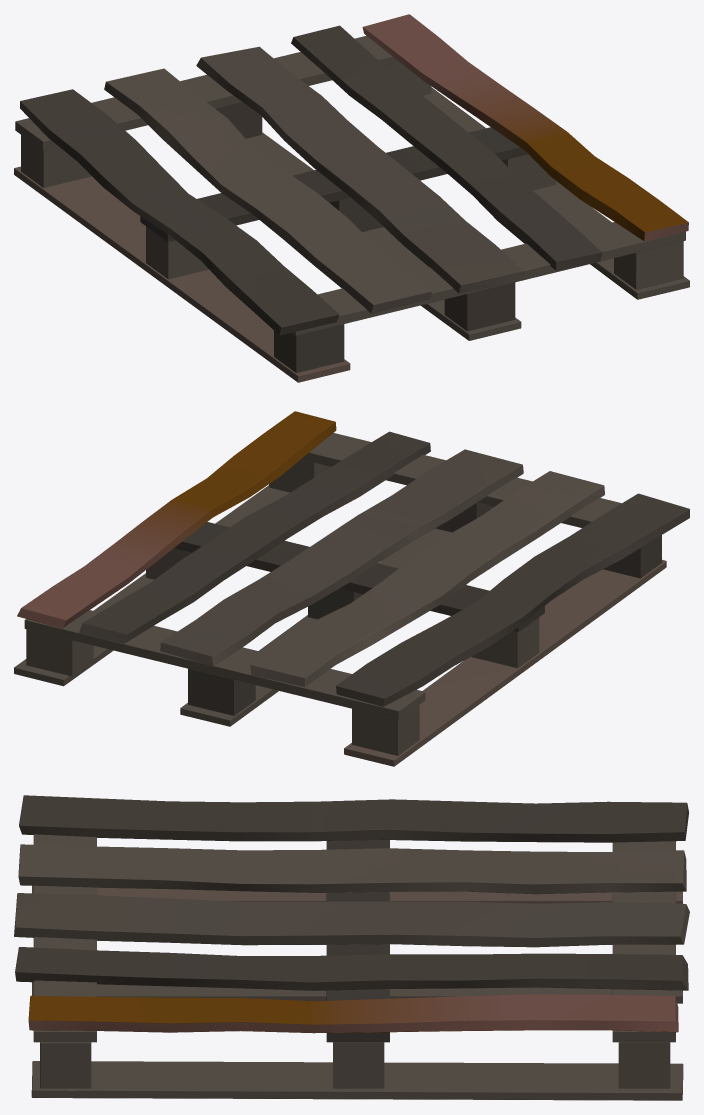
File: SM_Pallet_A_D.fbx
The picture shows the model from 3 angles, top to bottom: view 1: azimuth 30°, elevation 25°; view 2: azimuth 150°, elevation 25°; view 3: azimuth 270°, elevation 25°; orthographic projection. The views are drawn at different scales.
Visible parts, largest first — view 1: SM_Pallet_A_D; view 2: SM_Pallet_A_D; view 3: SM_Pallet_A_D.
Boxes of the visible parts, bbox=[...] form: SM_Pallet_A_D: bbox=[14, 14, 689, 382]; SM_Pallet_A_D: bbox=[14, 411, 689, 766]; SM_Pallet_A_D: bbox=[14, 795, 689, 1100].
Size of the model in its own units: 105 by 16.97 by 128.
